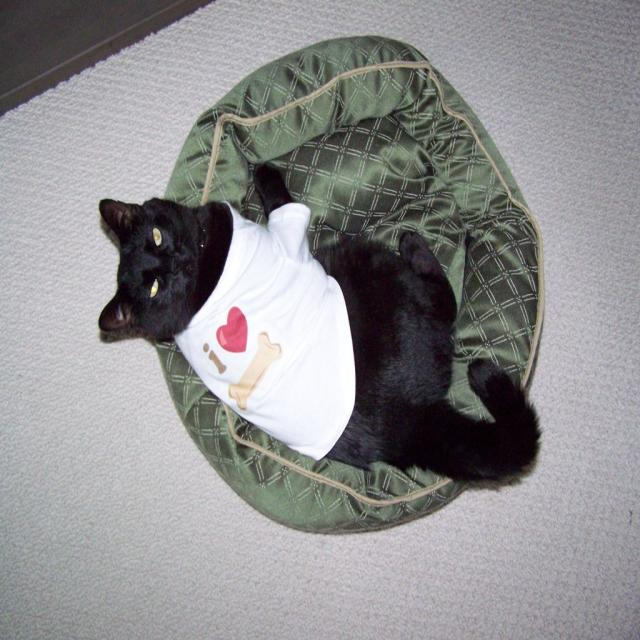Cat: (94, 163, 542, 491)
